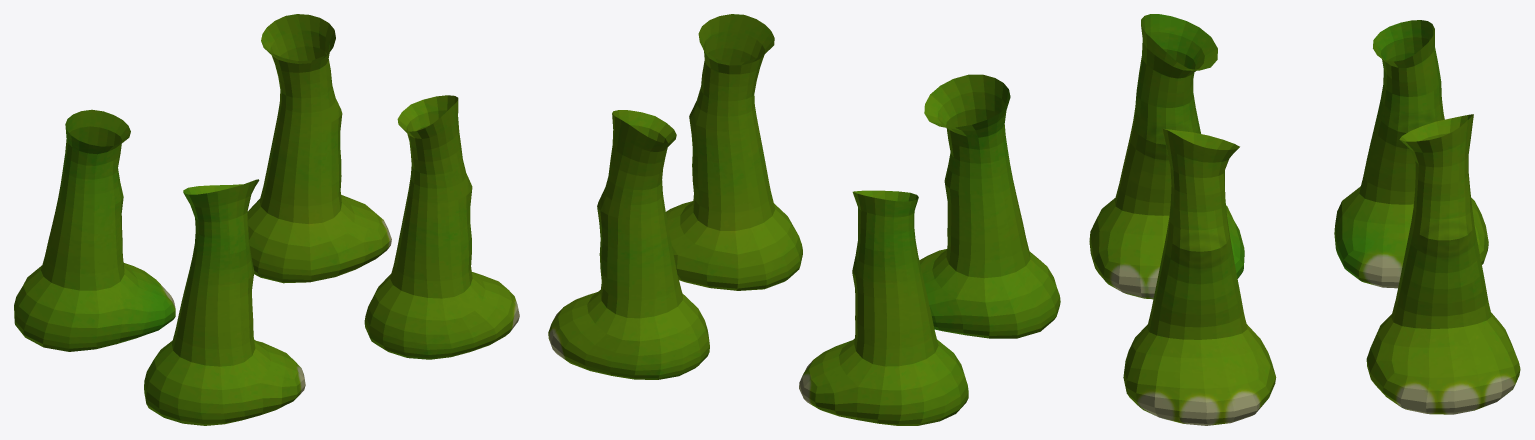
The model's file is Pies.obj.
3 views of the same model, side by side, from view 1: azimuth 30°, elevation 25°; view 2: azimuth 150°, elevation 25°; view 3: azimuth 270°, elevation 25° (orthographic). The views are drawn at different scales.
Parts seen in each view (by area): view 1: Pies:Mesh; view 2: Pies:Mesh; view 3: Pies:Mesh.
Boxes of the visible parts, x1,y1,x2,y2 form: Pies:Mesh: (14,14,519,425); Pies:Mesh: (548,14,1060,425); Pies:Mesh: (1089,14,1520,425).
Bounding box in the file's own units: 1.73 × 0.9848 × 1.47.
1 material, 1 textured.
